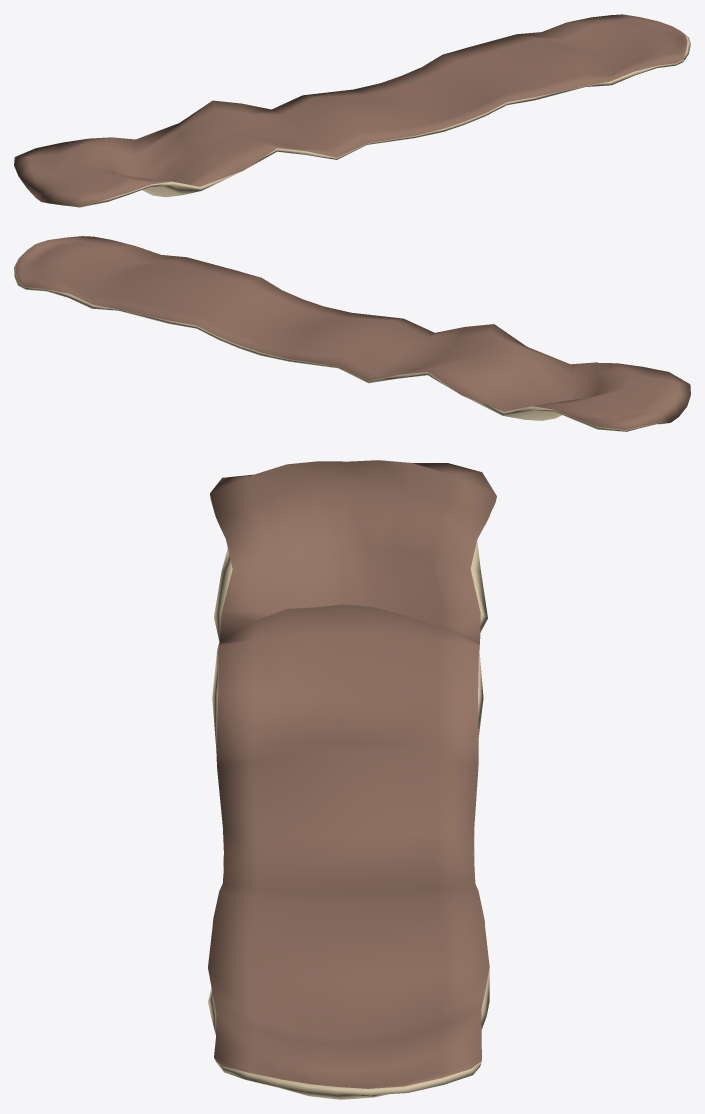
The model's file is cascaraPapa.fbx.
The picture shows the model from 3 angles, top to bottom: view 1: azimuth 30°, elevation 25°; view 2: azimuth 150°, elevation 25°; view 3: azimuth 270°, elevation 25°; orthographic projection. The views are drawn at different scales.
Parts seen in each view (by area): view 1: cascaraPapa; view 2: cascaraPapa; view 3: cascaraPapa.
Boxes of the visible parts, <box> form: cascaraPapa: <box>14,14,690,207</box>; cascaraPapa: <box>14,236,690,431</box>; cascaraPapa: <box>208,460,496,1099</box>.
Bounding box in the file's own units: 289 × 17.51 × 56.1.
